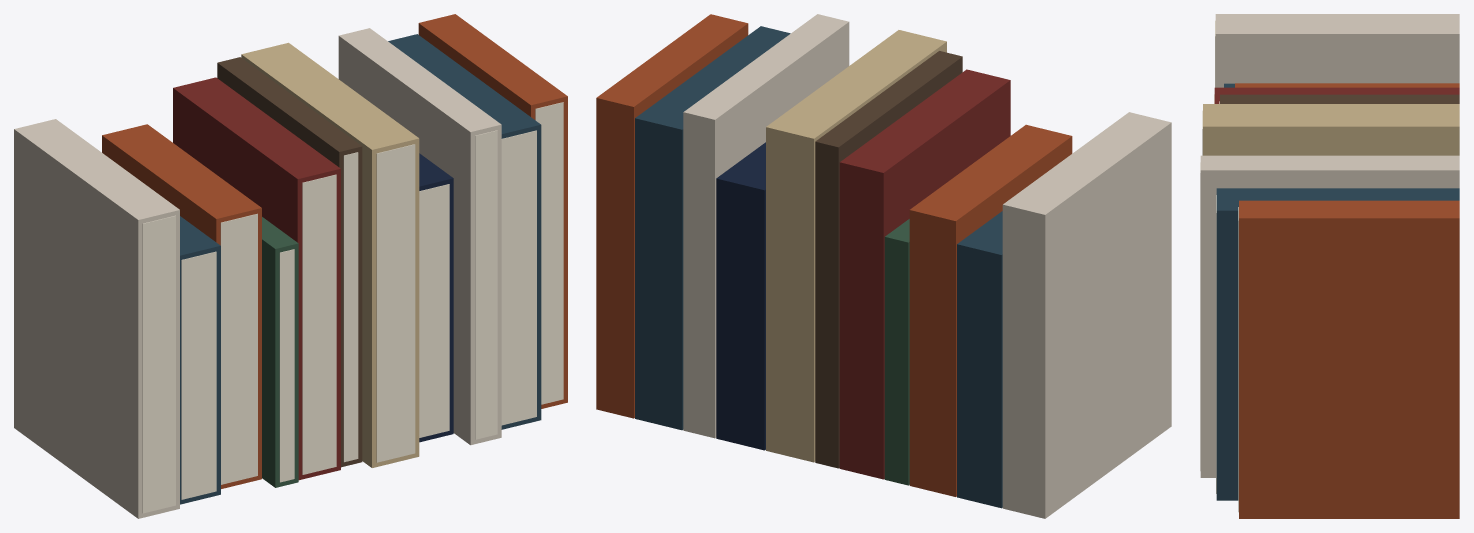
Rendered from FET-BKR-std.glb.
3 renders of one model, left to right at view 1: azimuth 30°, elevation 25°; view 2: azimuth 150°, elevation 25°; view 3: azimuth 270°, elevation 25°, orthographic. The views are drawn at different scales.
Parts seen in each view (by area): view 1: FET-BKR-std; view 2: FET-BKR-std; view 3: FET-BKR-std.
Boxes of the visible parts, <box> form: FET-BKR-std: <box>14,14,567,518</box>; FET-BKR-std: <box>596,14,1171,518</box>; FET-BKR-std: <box>1200,14,1459,518</box>.
Size of the model in its own units: 0.4 by 0.2756 by 0.2075.
